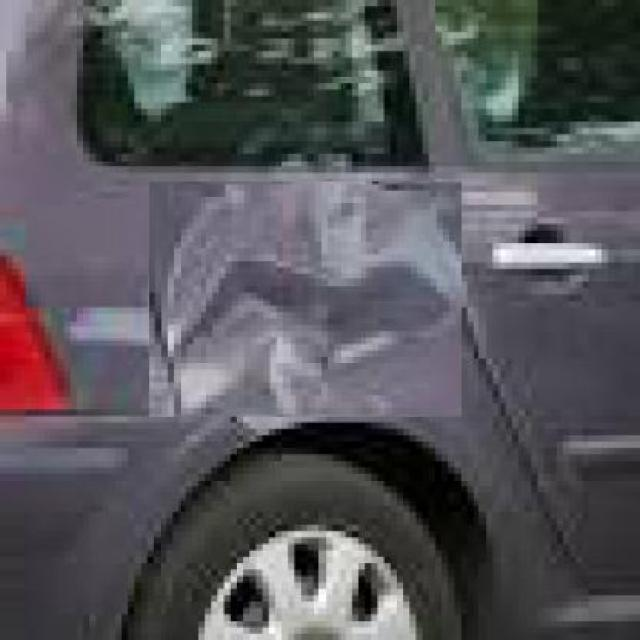dent: (173, 176, 451, 434)
